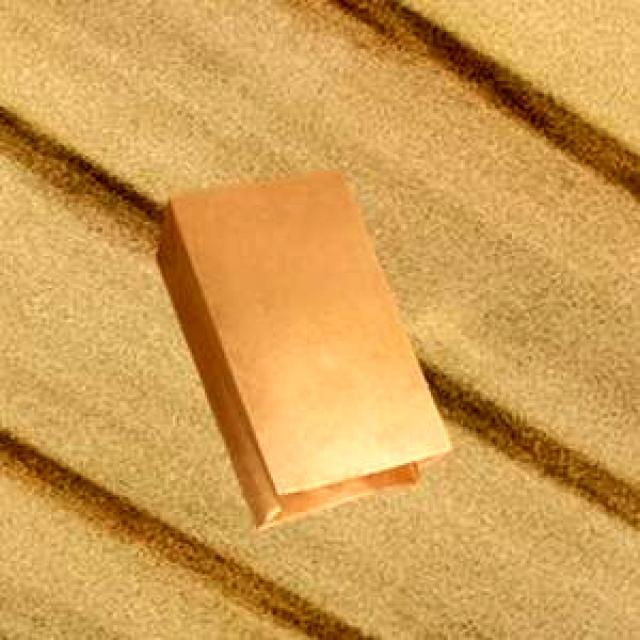Paper_Bag: (152, 165, 447, 526)
